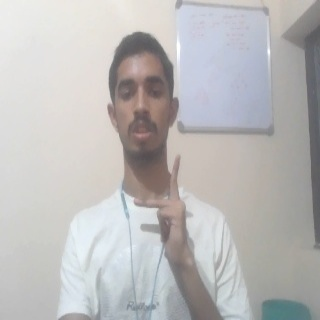Face: (107, 30, 179, 156)
Okay: (132, 154, 190, 266)
